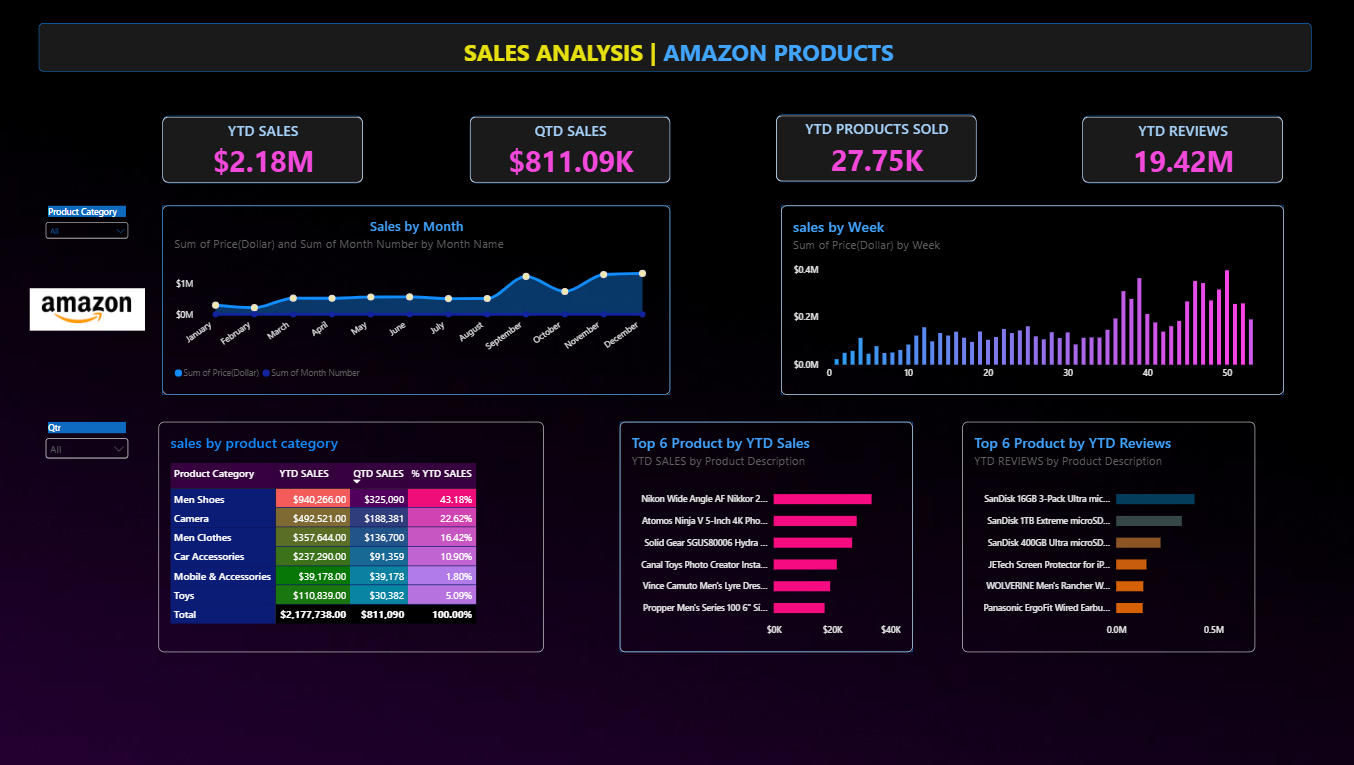

The dashboard page shown, as its layout file describes it:
{"tool":"powerbi","page":{"name":"Page 1","canvas":[1920,1080],"ordinal":0},"visuals":[{"type":"shape","box":[73.2,35.7,1776.8,67.9],"z":0},{"type":"textbox","box":[121.4,35.7,1689.3,67.9],"z":1000},{"type":"shape","box":[246.4,164.3,280,95],"z":3000},{"type":"shape","box":[674.4,164.3,280,95],"z":5000},{"type":"shape","box":[1530.4,164.3,280,95],"z":6000},{"type":"shape","box":[1102.4,162.5,280,95],"z":7000},{"type":"cardVisual","fields":{"Data":["Amazon_Data.QTD SALES"]},"box":[675,166.1,280.4,92.9],"z":7001},{"type":"cardVisual","fields":{"Data":["Amazon_Data.YTD SALES"]},"box":[246.4,166.1,280.4,92.9],"z":7002},{"type":"cardVisual","fields":{"Data":["Amazon_Data.YTD REVIEWS"]},"box":[1530.4,166.1,280.4,92.9],"z":7003},{"type":"cardVisual","fields":{"Data":["Amazon_Data.YTD PRODUCTS SOLD"]},"box":[1101.8,164.3,280.4,92.9],"z":7004},{"type":"areaChart","title":"  Sales by Month","fields":{"Category":["date Table.Month Name"],"Y":["Sum(Amazon_Data.Price(Dollar))","Sum(date Table.Month Number)"]},"box":[246.4,289.3,708.9,264.3],"z":7006},{"type":"shape","box":[246.4,289.3,708.9,264.3],"z":7007},{"type":"shape","box":[1108.9,289.3,701.8,264.3],"z":7008},{"type":"columnChart","title":"sales  by Week ","fields":{"Category":["date Table.Week"],"Y":["Sum(Amazon_Data.Price(Dollar))"]},"box":[1108.9,289.3,701.8,264.3],"z":7009},{"type":"shape","box":[883.9,591.1,408.9,321.4],"z":7010},{"type":"pivotTable","title":"sales by product category","fields":{"Rows":["Amazon_Data.Product Category"],"Values":["Amazon_Data.YTD SALES1","Amazon_Data.QTD SALES","Amazon_Data.YTD SALES"]},"box":[241.1,591.1,537.5,321.4],"z":7011},{"type":"clusteredBarChart","title":"Top 6 Product  by YTD Sales","fields":{"Category":["Amazon_Data.Product Description"],"Y":["Amazon_Data.YTD SALES"]},"box":[883.9,591.1,408.9,321.4],"z":7012},{"type":"clusteredBarChart","title":"Top 6 Product  by YTD Reviews","fields":{"Category":["Amazon_Data.Product Description"],"Y":["Amazon_Data.YTD REVIEWS"]},"box":[1362.5,591.1,408.9,321.4],"z":7013},{"type":"slicer","fields":{"Values":["Amazon_Data.Product Category"]},"box":[78.6,289.3,125,48.2],"z":7014},{"type":"slicer","fields":{"Values":["date Table.Qtr"]},"box":[78.6,591.1,125,67.9],"z":7015},{"type":"image","box":[60.7,350,160.7,167.9],"z":7016}]}

Visuals, with their boxes in screenshot pixels (x1, y1, x2, y2), scaled from the page's 1920x1080 canvas onto the 1354x765 screenshot:
shape: rect(52, 25, 1305, 73)
textbox: rect(86, 25, 1277, 73)
shape: rect(174, 116, 371, 184)
shape: rect(476, 116, 673, 184)
shape: rect(1079, 116, 1277, 184)
shape: rect(777, 115, 975, 182)
cardVisual - Amazon_Data.QTD SALES: rect(476, 118, 674, 183)
cardVisual - Amazon_Data.YTD SALES: rect(174, 118, 372, 183)
cardVisual - Amazon_Data.YTD REVIEWS: rect(1079, 118, 1277, 183)
cardVisual - Amazon_Data.YTD PRODUCTS SOLD: rect(777, 116, 975, 182)
"  Sales by Month" areaChart: rect(174, 205, 674, 392)
shape: rect(174, 205, 674, 392)
shape: rect(782, 205, 1277, 392)
"sales  by Week " columnChart: rect(782, 205, 1277, 392)
shape: rect(623, 419, 912, 646)
"sales by product category" pivotTable: rect(170, 419, 549, 646)
"Top 6 Product  by YTD Sales" clusteredBarChart: rect(623, 419, 912, 646)
"Top 6 Product  by YTD Reviews" clusteredBarChart: rect(961, 419, 1249, 646)
slicer - Amazon_Data.Product Category: rect(55, 205, 144, 239)
slicer - date Table.Qtr: rect(55, 419, 144, 467)
image: rect(43, 248, 156, 367)
